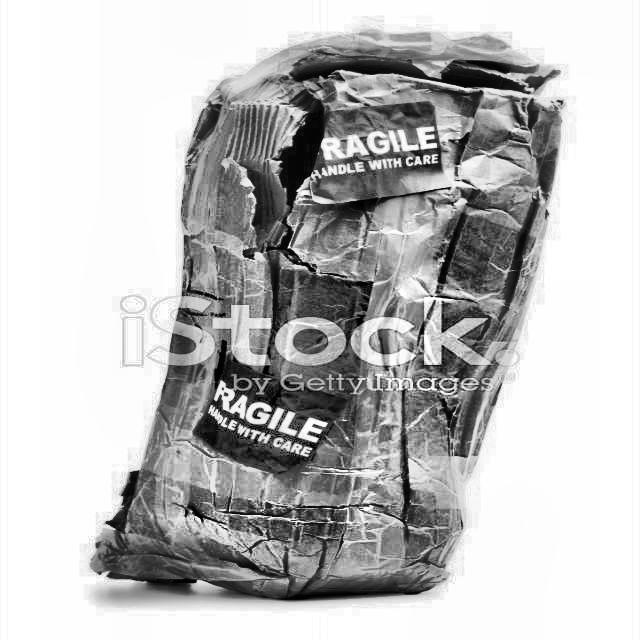box: (70, 14, 605, 619)
hole: (233, 102, 329, 274)
